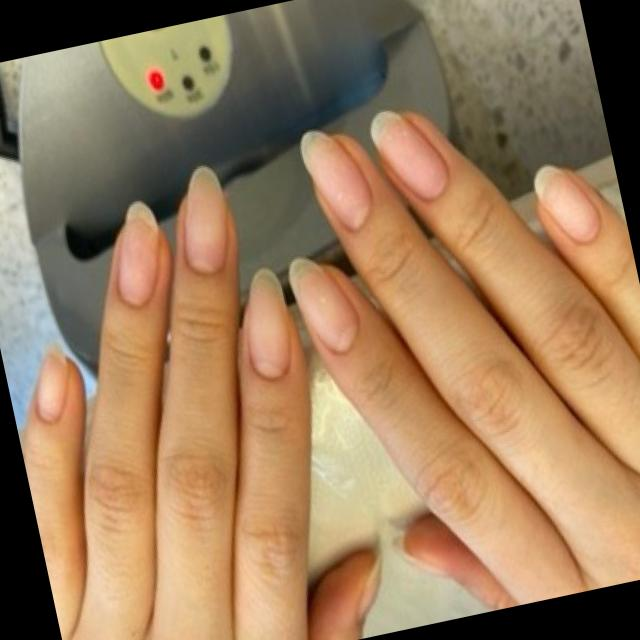Nail: (299, 130, 370, 230), (369, 110, 447, 199), (288, 257, 357, 352), (533, 164, 599, 243), (246, 268, 288, 378), (183, 164, 225, 273), (115, 200, 158, 305), (34, 350, 68, 422), (357, 554, 379, 619)
